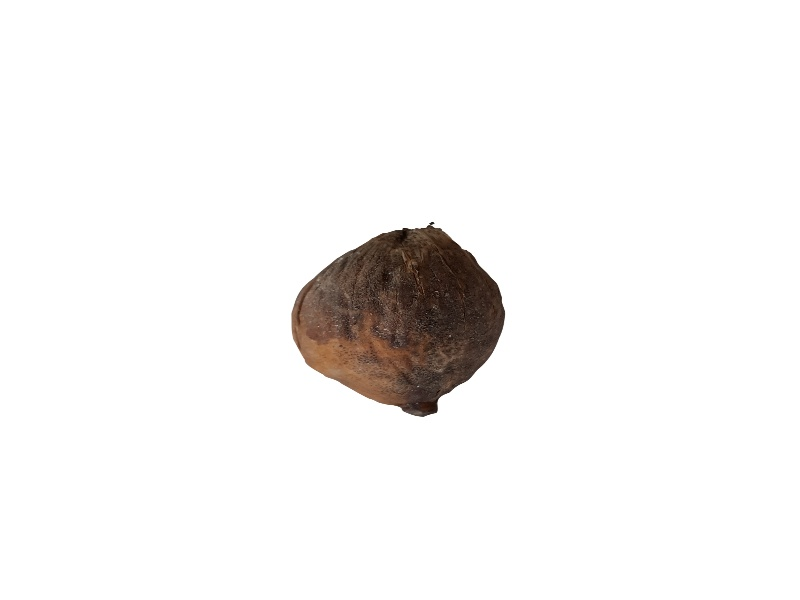arecanut: (277, 218, 516, 425)
